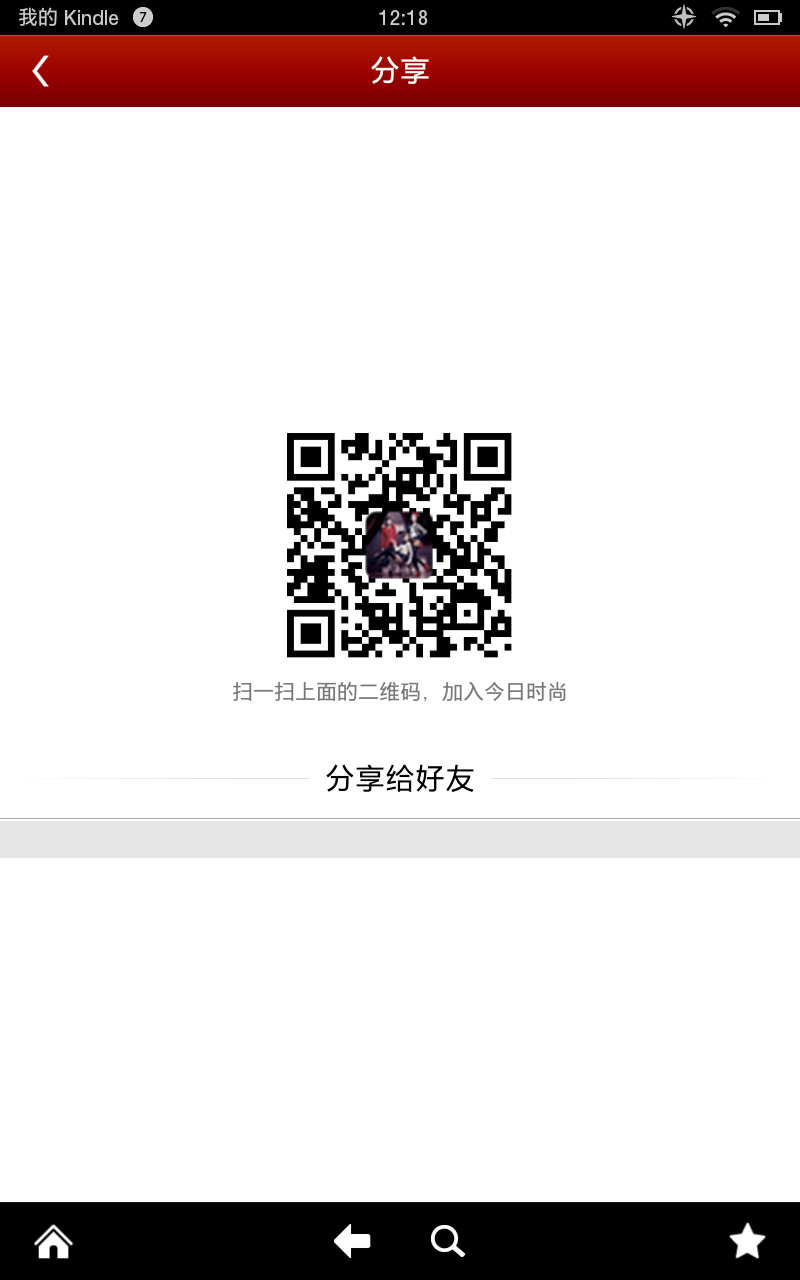imgview: (279, 421, 528, 666)
